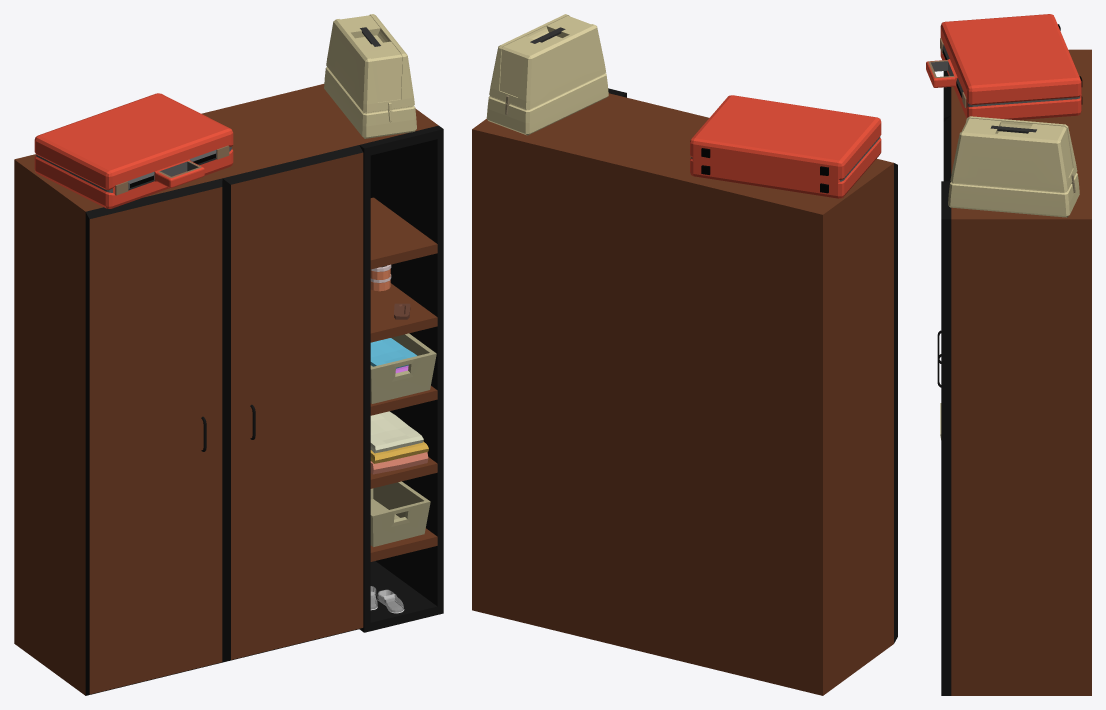
The model's file is BOOKCASE.fbx.
The picture shows the model from 3 angles, left to right: view 1: azimuth 30°, elevation 25°; view 2: azimuth 150°, elevation 25°; view 3: azimuth 270°, elevation 25°; orthographic projection.
Parts seen in each view (by area): view 1: Cube.016; view 2: Cube.016; view 3: Cube.016.
Boxes of the visible parts, x1,y1,x2,y2 form: Cube.016: (14, 14, 443, 695); Cube.016: (472, 14, 897, 695); Cube.016: (926, 14, 1091, 695).
Size of the model in its own units: 629 by 2300 by 1521.
